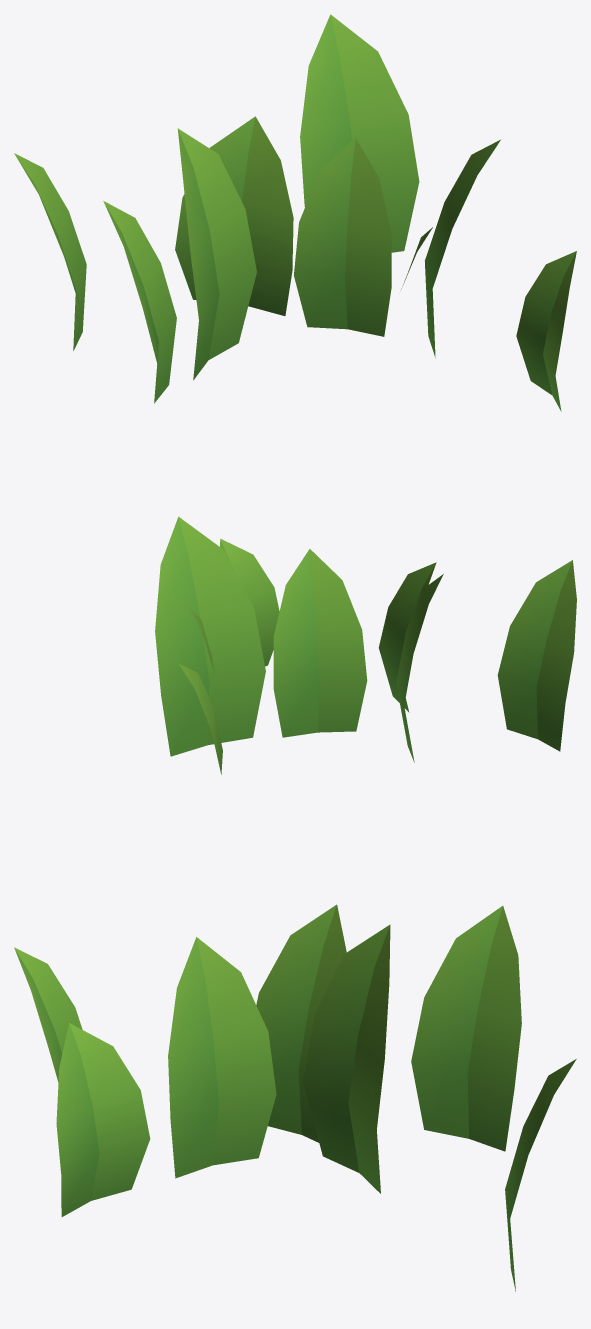
Rendered from Grass_1_D_Color1.glb.
3 views of the same model, one above another, from view 1: azimuth 30°, elevation 25°; view 2: azimuth 150°, elevation 25°; view 3: azimuth 270°, elevation 25° (orthographic). The views are drawn at different scales.
Parts seen in each view (by area): view 1: Grass_1_D_Singlesided_Color1; view 2: Grass_1_D_Singlesided_Color1; view 3: Grass_1_D_Singlesided_Color1.
Part boxes in pixels (<box>): Grass_1_D_Singlesided_Color1: <box>14,14,576,411</box>; Grass_1_D_Singlesided_Color1: <box>155,516,576,774</box>; Grass_1_D_Singlesided_Color1: <box>14,904,576,1291</box>.
Bounding box in the file's own units: 1.04 × 0.5837 × 1.19.
1 material, 1 textured.
